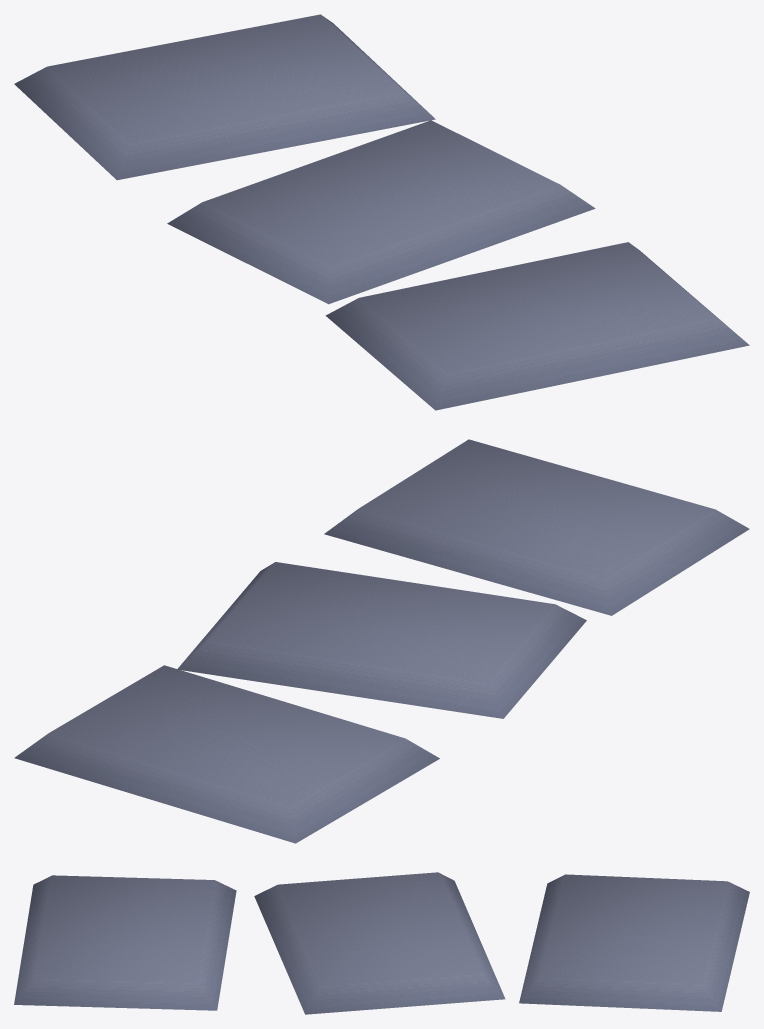
Rendered from path-stones-messy.glb.
3 views of the same model, one above another, from view 1: azimuth 30°, elevation 25°; view 2: azimuth 150°, elevation 25°; view 3: azimuth 270°, elevation 25° (orthographic). The views are drawn at different scales.
Parts seen in each view (by area): view 1: path-stones-messy; view 2: path-stones-messy; view 3: path-stones-messy.
Boxes of the visible parts, x1,y1,x2,y2 form: path-stones-messy: [14, 14, 749, 410]; path-stones-messy: [14, 439, 749, 843]; path-stones-messy: [14, 872, 749, 1014].
Size of the model in its own units: 0.1556 by 0.01 by 0.3614.
Materials: 1 (1 with a texture image).
